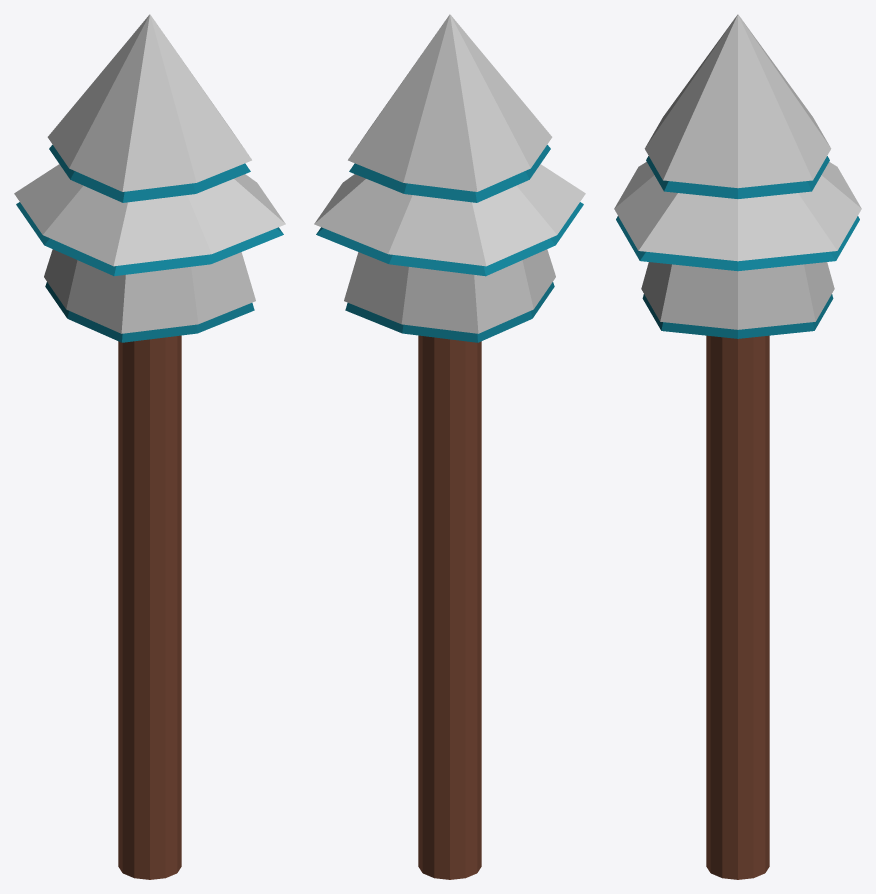
The model's file is Tree_20_winter_blue_vc.fbx.
3 views of the same model, side by side, from view 1: azimuth 30°, elevation 25°; view 2: azimuth 150°, elevation 25°; view 3: azimuth 270°, elevation 25° (orthographic).
Visible parts, largest first — view 1: Tree_20_winter_blue_vc; view 2: Tree_20_winter_blue_vc; view 3: Tree_20_winter_blue_vc.
Boxes of the visible parts, x1,y1,x2,y2 form: Tree_20_winter_blue_vc: (14,14,285,879); Tree_20_winter_blue_vc: (314,14,585,879); Tree_20_winter_blue_vc: (614,14,861,879).
Bounding box in the file's own units: 86.74 × 329 × 86.74.
